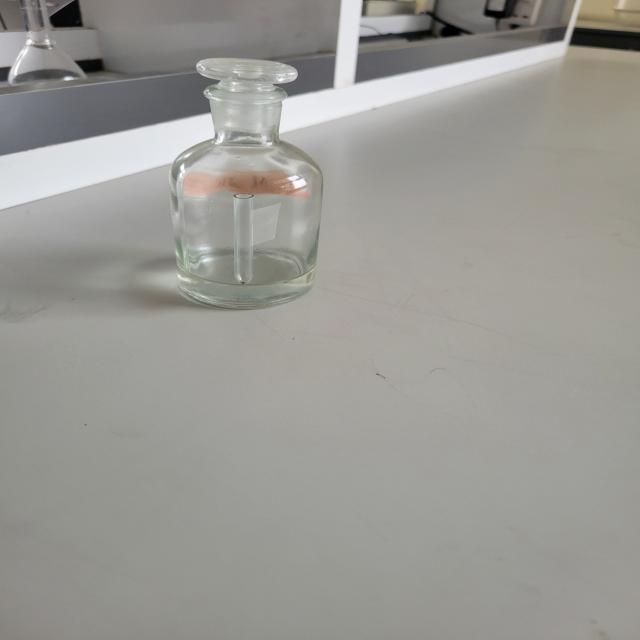Reagent_Bottle: (85, 27, 394, 319)
